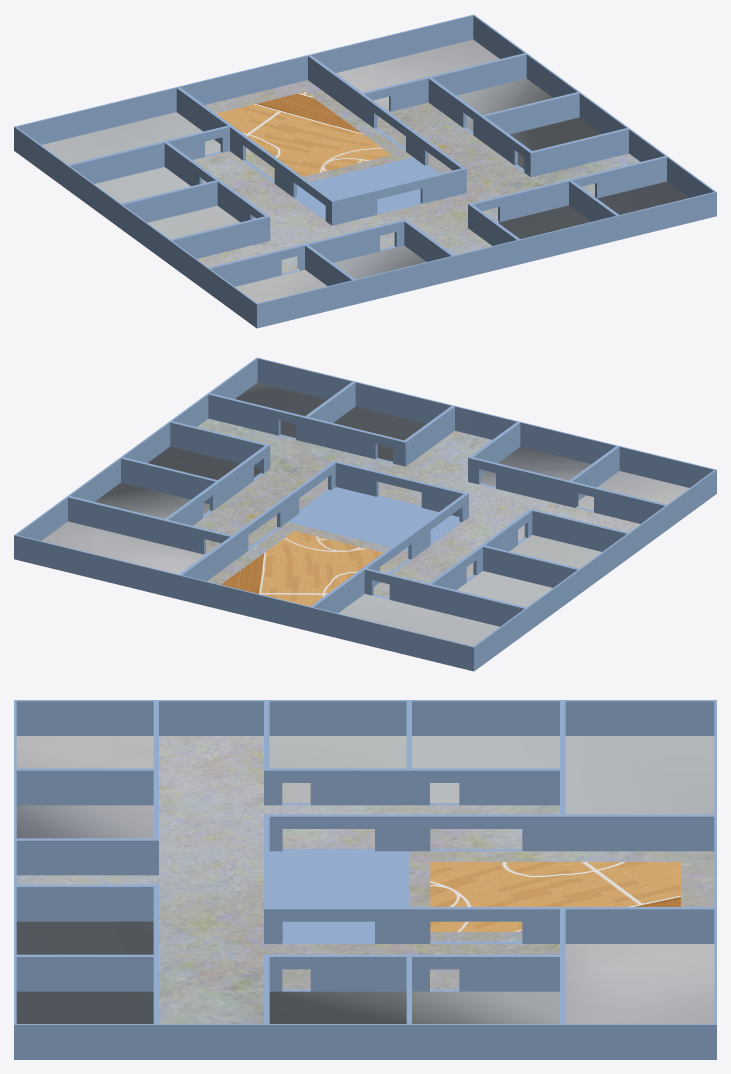
File: escola5.fbx
3 views of the same model, one above another, from view 1: azimuth 30°, elevation 25°; view 2: azimuth 150°, elevation 25°; view 3: azimuth 270°, elevation 25° (orthographic). The views are drawn at different scales.
Visible parts, largest first — view 1: Plane; view 2: Plane; view 3: Plane.
Boxes of the visible parts, x1,y1,x2,y2 form: Plane: [14, 14, 716, 328]; Plane: [14, 357, 716, 671]; Plane: [14, 700, 716, 1059].
Bounding box in the file's own units: 7000 × 350 × 6400.
